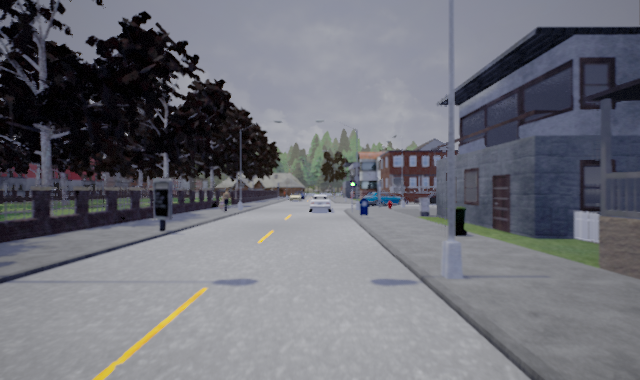pedestrian: (220, 187, 232, 212)
vehicle: (365, 192, 405, 206), (308, 194, 333, 213), (287, 192, 304, 203)
